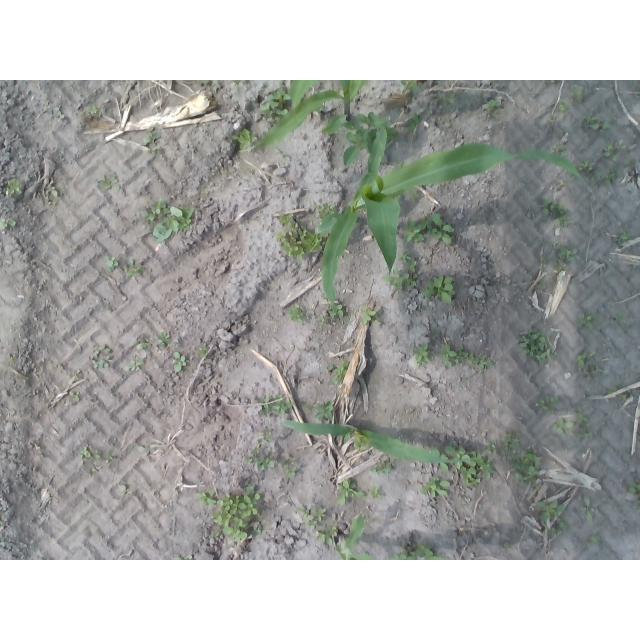Maize: (322, 126, 582, 306), (281, 419, 480, 466), (254, 80, 370, 150), (335, 514, 376, 560)
Weeds: (343, 112, 399, 165), (213, 486, 264, 543), (274, 211, 331, 262), (141, 198, 196, 243), (500, 429, 541, 485), (445, 444, 496, 488), (403, 212, 455, 245), (436, 342, 494, 370), (519, 326, 556, 367), (244, 433, 276, 472), (261, 88, 292, 125), (574, 351, 605, 384), (541, 197, 572, 229), (387, 544, 449, 560), (423, 276, 456, 305), (259, 392, 294, 416), (381, 269, 418, 291), (417, 476, 451, 499), (336, 479, 364, 506), (298, 504, 327, 529), (77, 445, 101, 473), (231, 127, 258, 151), (326, 360, 351, 385), (575, 406, 592, 442), (536, 498, 564, 519), (601, 140, 628, 161), (589, 167, 618, 185), (315, 526, 338, 547), (91, 345, 111, 369), (429, 448, 449, 472), (583, 115, 611, 132), (288, 302, 309, 324), (140, 130, 160, 153), (414, 341, 431, 368), (313, 399, 334, 420), (359, 307, 382, 326), (550, 416, 574, 434), (549, 521, 571, 539), (194, 488, 217, 505), (399, 252, 418, 272), (279, 456, 297, 477), (576, 312, 598, 329), (537, 394, 559, 411), (581, 495, 595, 521), (371, 460, 395, 475), (613, 227, 633, 245), (608, 385, 629, 401), (172, 351, 187, 373), (99, 172, 118, 189), (127, 260, 146, 277), (313, 203, 336, 217), (485, 99, 500, 120), (407, 111, 421, 133), (327, 302, 345, 319), (6, 178, 23, 196), (559, 246, 578, 262), (439, 89, 456, 105), (400, 81, 418, 96), (124, 359, 144, 372), (156, 332, 172, 348), (552, 142, 568, 158), (104, 255, 119, 272), (628, 480, 640, 498), (570, 87, 585, 101), (87, 103, 102, 117), (486, 438, 499, 454), (577, 160, 592, 173), (0, 217, 16, 229), (557, 99, 569, 114), (500, 542, 515, 553), (369, 487, 383, 498), (69, 390, 81, 402), (553, 263, 565, 274), (136, 341, 152, 349), (555, 181, 566, 192), (614, 313, 626, 323), (197, 345, 207, 357), (588, 536, 601, 545), (301, 401, 312, 411), (551, 240, 561, 250), (49, 187, 59, 197), (202, 80, 218, 86), (540, 256, 549, 265), (548, 114, 556, 124), (540, 80, 555, 85), (316, 316, 325, 324), (104, 453, 112, 460), (173, 556, 184, 561), (636, 500, 640, 513), (9, 356, 15, 362)
